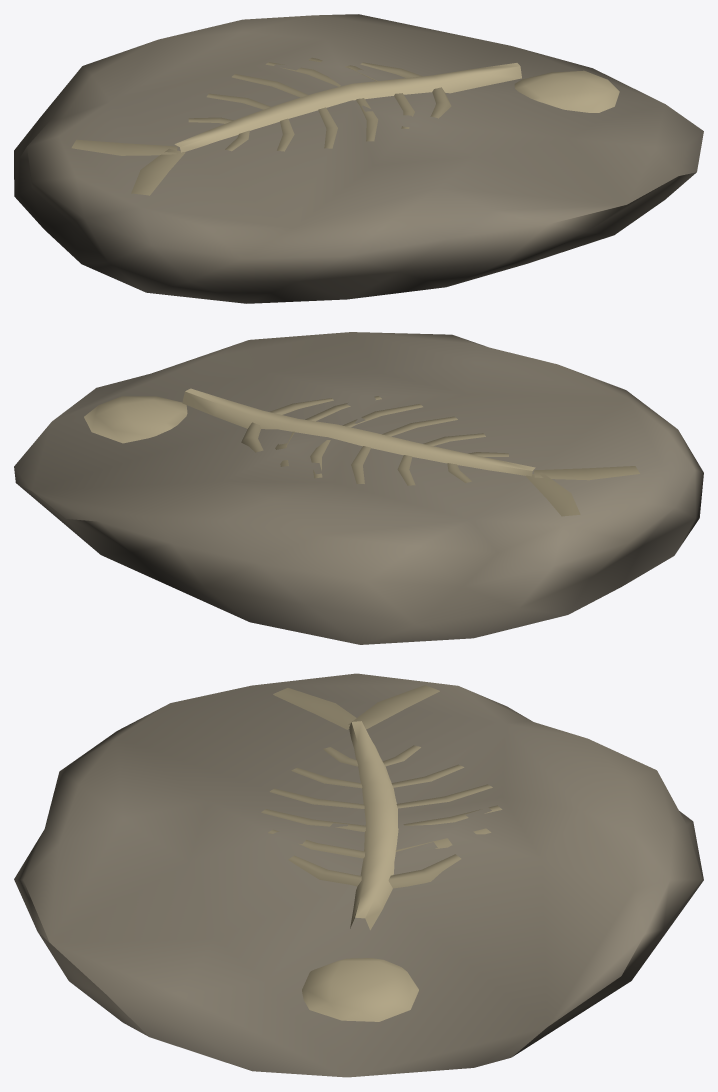
File: cave-fossil-v3.glb
The picture shows the model from 3 angles, top to bottom: view 1: azimuth 30°, elevation 25°; view 2: azimuth 150°, elevation 25°; view 3: azimuth 270°, elevation 25°; orthographic projection. The views are drawn at different scales.
Visible parts, largest first — view 1: 0_fossil; view 2: 0_fossil; view 3: 0_fossil.
Boxes of the visible parts, left/top/right/bottom form: 0_fossil: left=14, top=14, right=703, bottom=303; 0_fossil: left=14, top=332, right=703, bottom=644; 0_fossil: left=14, top=673, right=703, bottom=1077.
Bounding box in the file's own units: 0.4755 × 0.0586 × 0.4092.
